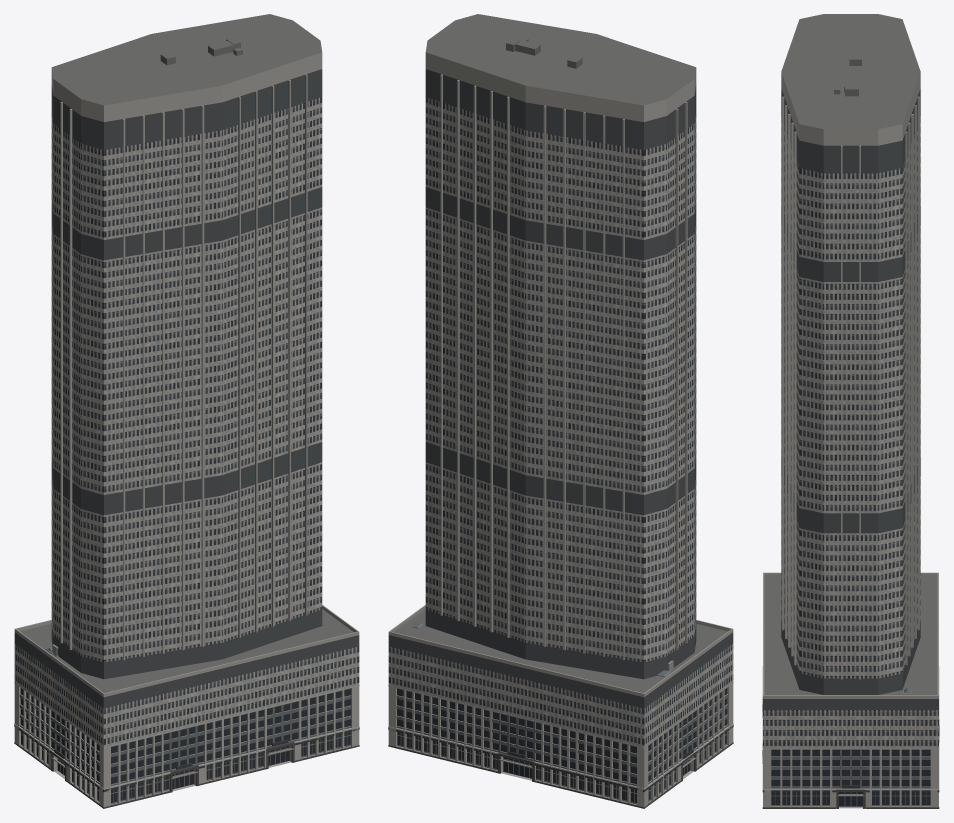
Rendered from metlife_building.glb.
3 views of the same model, side by side, from view 1: azimuth 30°, elevation 25°; view 2: azimuth 150°, elevation 25°; view 3: azimuth 270°, elevation 25° (orthographic).
Parts seen in each view (by area): view 1: metlife_building; view 2: metlife_building; view 3: metlife_building.
Boxes of the visible parts, left/top/right/bottom form: metlife_building: left=14, top=14, right=359, bottom=808; metlife_building: left=388, top=14, right=733, bottom=808; metlife_building: left=762, top=14, right=939, bottom=808.
Bounding box in the file's own units: 96.49 × 249 × 58.49.
Materials: 2 (2 with a texture image).
